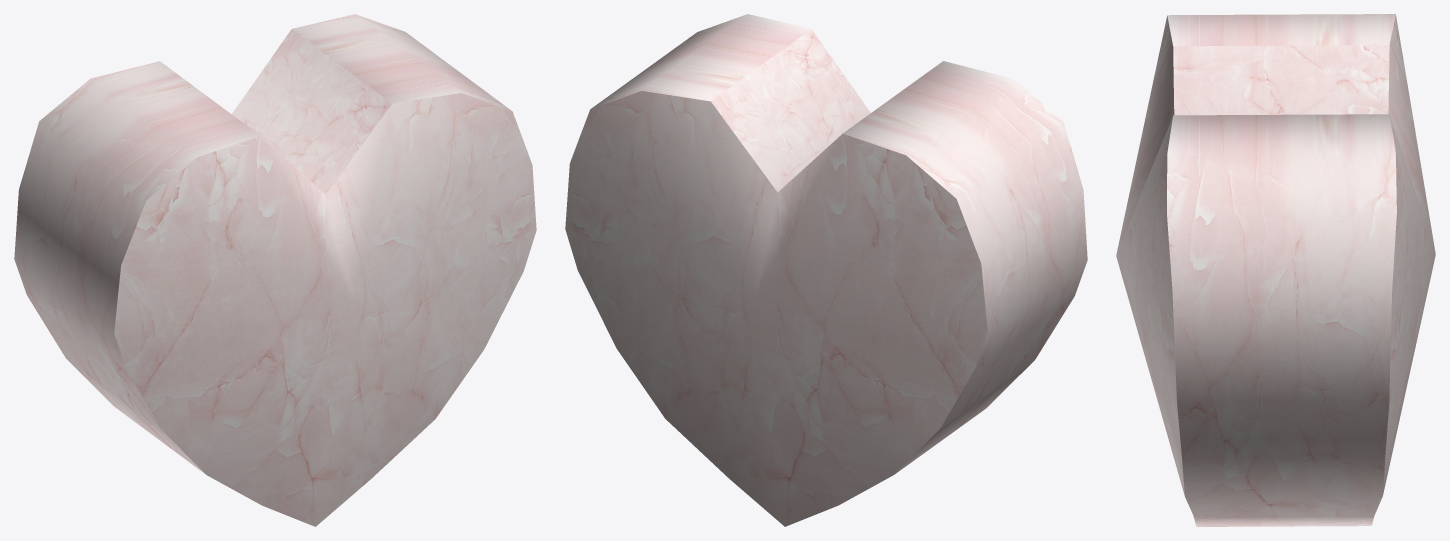
File: Win Object.fbx
The picture shows the model from 3 angles, left to right: view 1: azimuth 30°, elevation 25°; view 2: azimuth 150°, elevation 25°; view 3: azimuth 270°, elevation 25°; orthographic projection. The views are drawn at different scales.
Visible parts, largest first — view 1: pCylinder1; view 2: pCylinder1; view 3: pCylinder1.
Part boxes in pixels (left/top/right/bottom): pCylinder1: left=14, top=14, right=536, bottom=526; pCylinder1: left=565, top=14, right=1087, bottom=526; pCylinder1: left=1116, top=14, right=1435, bottom=526.
Size of the model in its own units: 4.78 by 4.5 by 2.92.
1 material, 1 textured.
